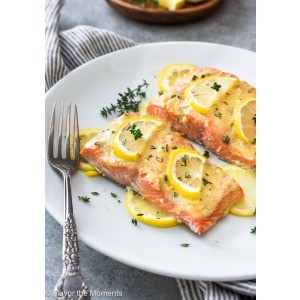salmon_brain food: (107, 79, 237, 218)
